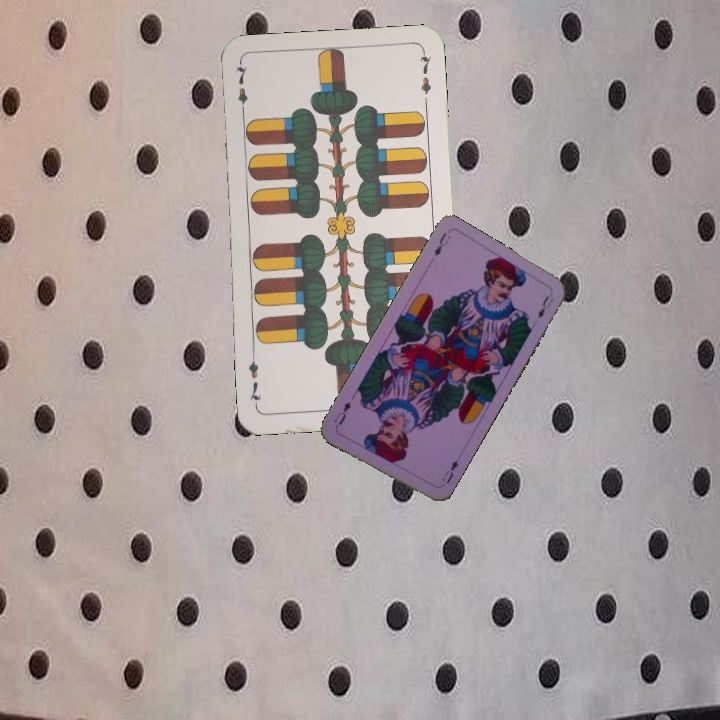E7: (232, 60, 251, 119)
EU: (438, 456, 461, 486), (430, 229, 453, 259)
